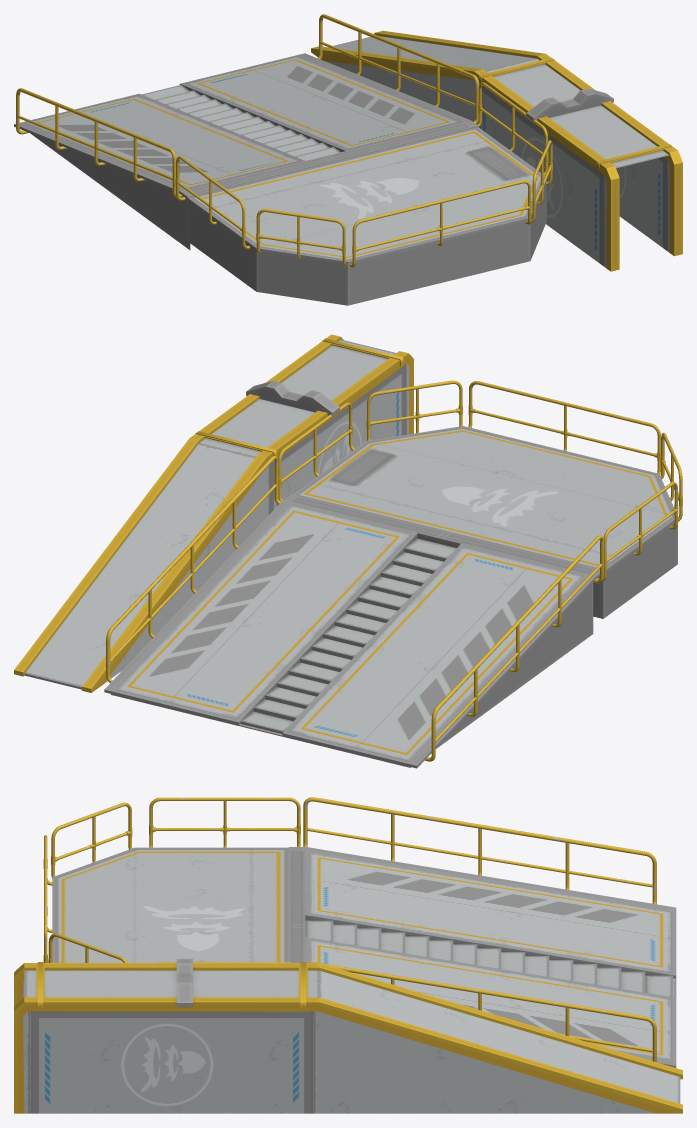
File: BC_Fbx_JieTi_1.FBX
3 views of the same model, one above another, from view 1: azimuth 30°, elevation 25°; view 2: azimuth 150°, elevation 25°; view 3: azimuth 270°, elevation 25° (orthographic). The views are drawn at different scales.
Parts seen in each view (by area): view 1: BC_Fbx_JieTi_1; view 2: BC_Fbx_JieTi_1; view 3: BC_Fbx_JieTi_1.
Part boxes in pixels (box(x1,y1,x2,y2)): BC_Fbx_JieTi_1: box(14, 14, 682, 305); BC_Fbx_JieTi_1: box(14, 334, 682, 768); BC_Fbx_JieTi_1: box(14, 797, 682, 1113).
Size of the model in its own units: 10.83 by 2.99 by 14.68.
